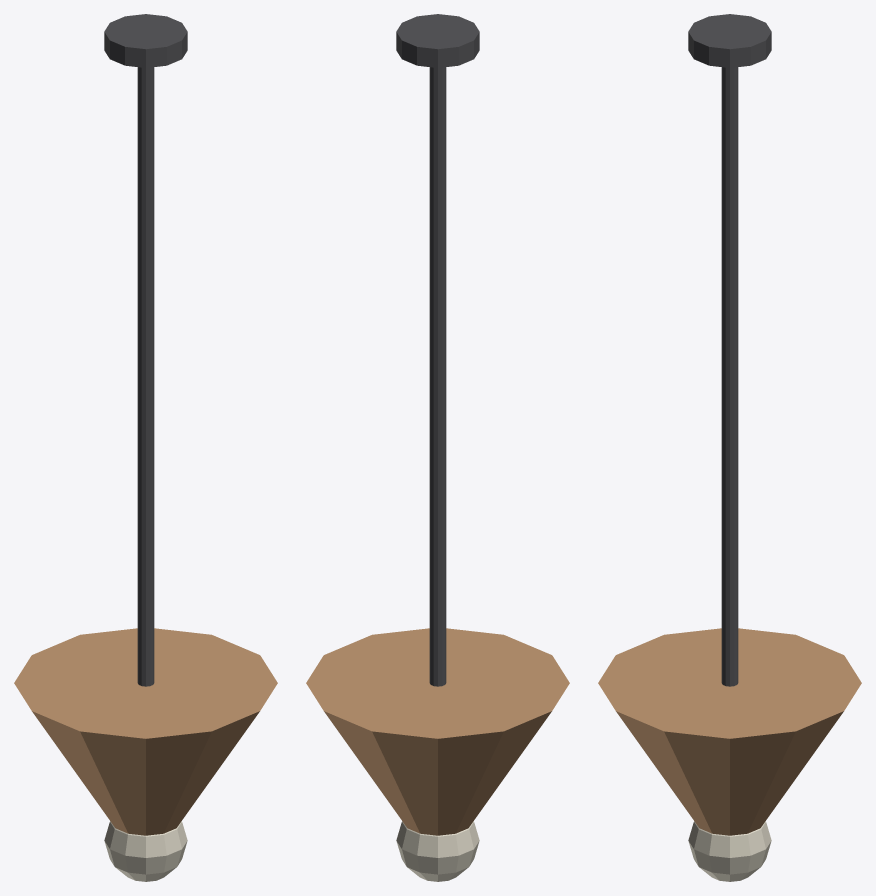
File: ilu_pendente_cone.glb
3 renders of one model, left to right at view 1: azimuth 30°, elevation 25°; view 2: azimuth 150°, elevation 25°; view 3: azimuth 270°, elevation 25°, orthographic.
Parts seen in each view (by area): view 1: ILU_Pendente_Cone_v01; view 2: ILU_Pendente_Cone_v01; view 3: ILU_Pendente_Cone_v01.
Part boxes in pixels (x1,y1,x2,y2): ILU_Pendente_Cone_v01: [14, 14, 277, 881]; ILU_Pendente_Cone_v01: [306, 14, 569, 881]; ILU_Pendente_Cone_v01: [598, 14, 861, 881].
Size of the model in its own units: 0.38 by 1.35 by 0.38.
